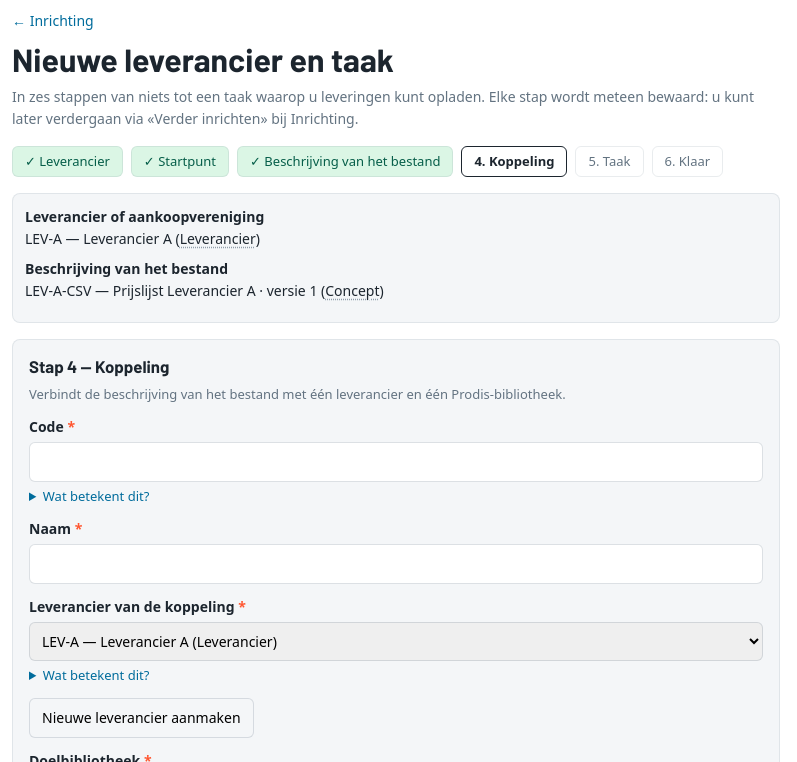
it: NewSupplierWizardPage (NT-6) › hervatten: bestaande definitie mét conceptversie opent bij de koppeling; ongeldige valuta wordt nooit aangepast
Expected: the heading "Stap 4 — Koppeling" is shown, [29, 356, 169, 376]
Expected: the element with test id "wizard-done-so-far" shows "LEV-A-CSV", [25, 281, 91, 300]
Type "LNK-A" into the field labelled "Code *" at (396, 462), box [29, 442, 763, 482]
Type "Koppeling A" into the field labelled "Naam *" at (396, 564), box [29, 544, 763, 584]
(page scrolled)
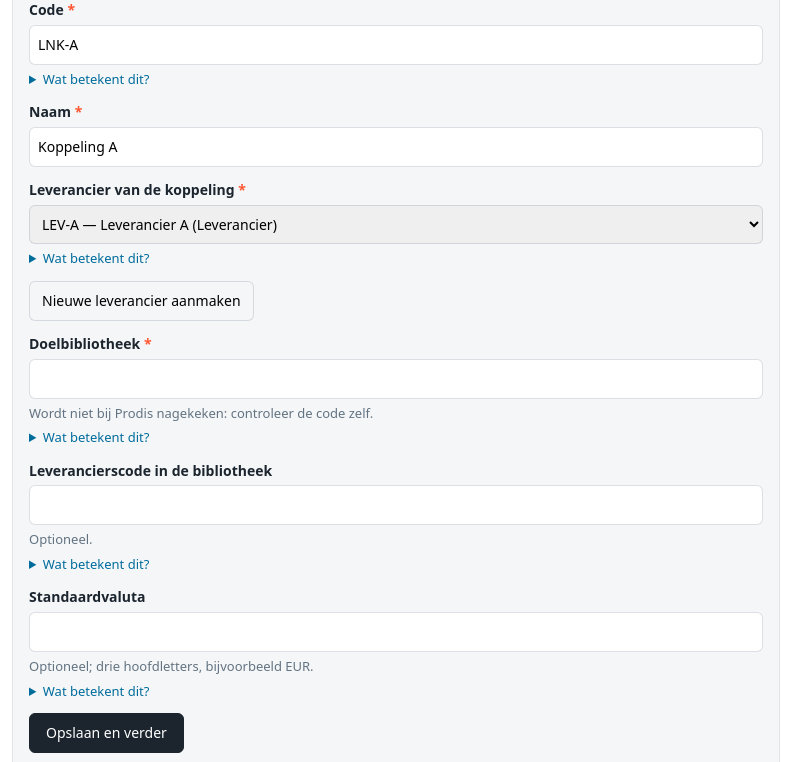
Type "LIB1" into the field labelled "Doelbibliotheek *" at (396, 379), box [29, 359, 763, 399]
Type "eur" into the field labelled "Standaardvaluta" at (396, 632), box [29, 612, 763, 652]
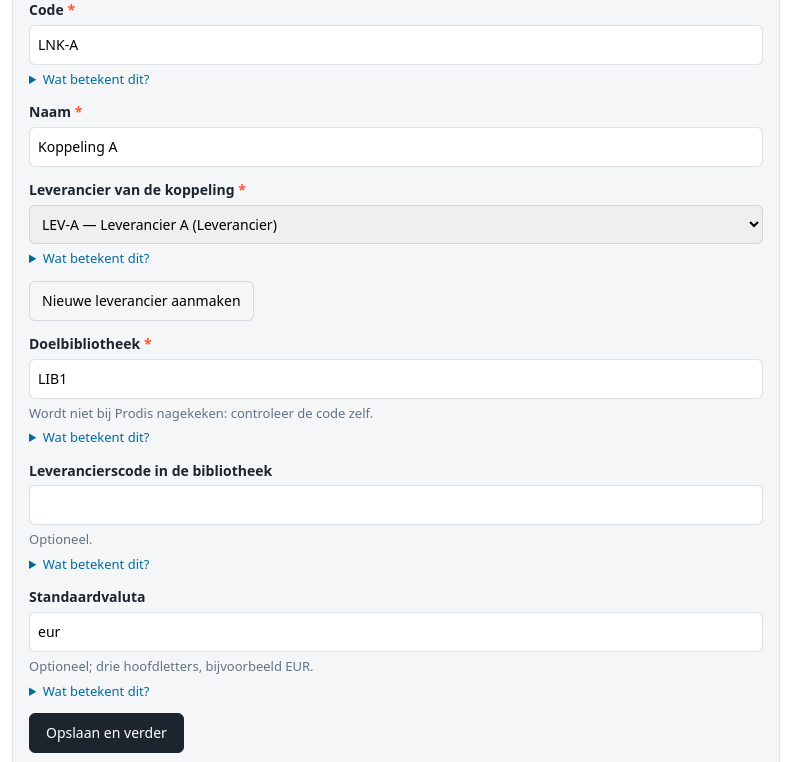
Click the button "Opslaan en verder" at (106, 733), box [29, 713, 184, 753]
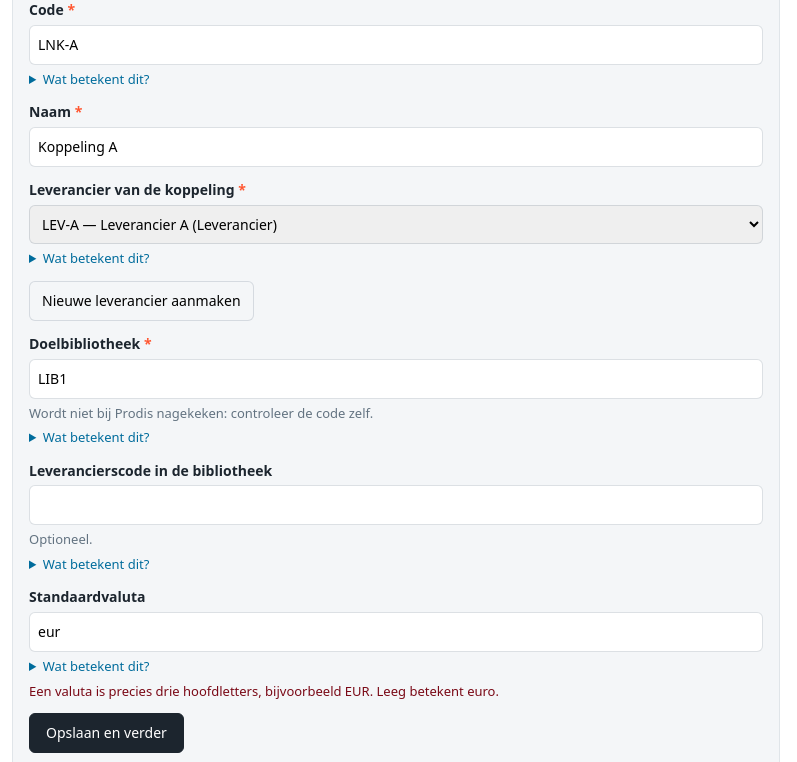
Expected: the text "Een valuta is precies drie hoofdletters, bijvoorbeeld EUR. Leeg betekent euro." is shown, [29, 682, 499, 700]
Replace the text in the field labelled "Standaardvaluta" with "EUR" at (396, 632), box [29, 612, 763, 652]
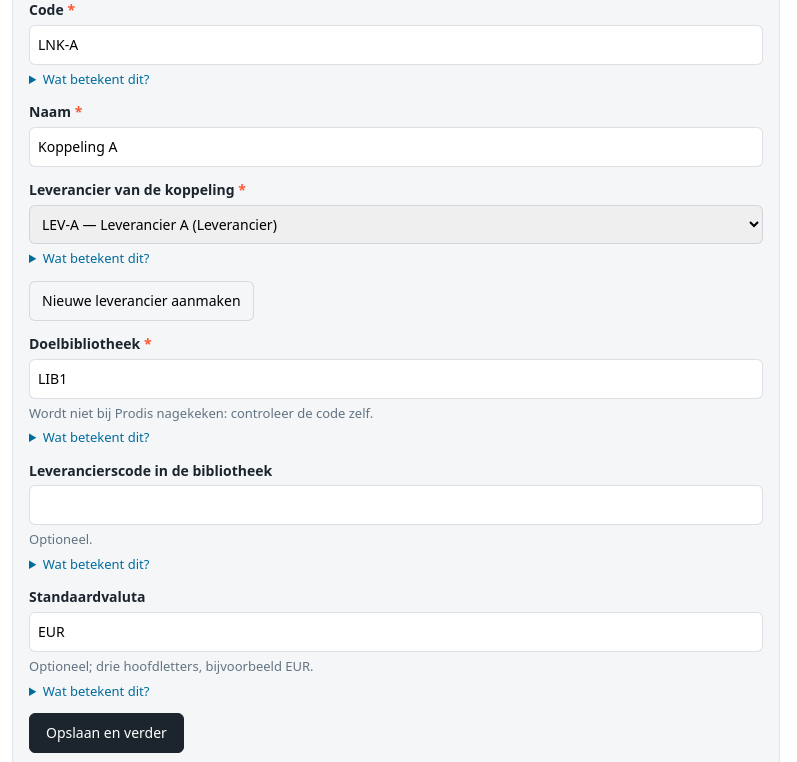
Click the button "Opslaan en verder" at (106, 733), box [29, 713, 184, 753]
(page scrolled)
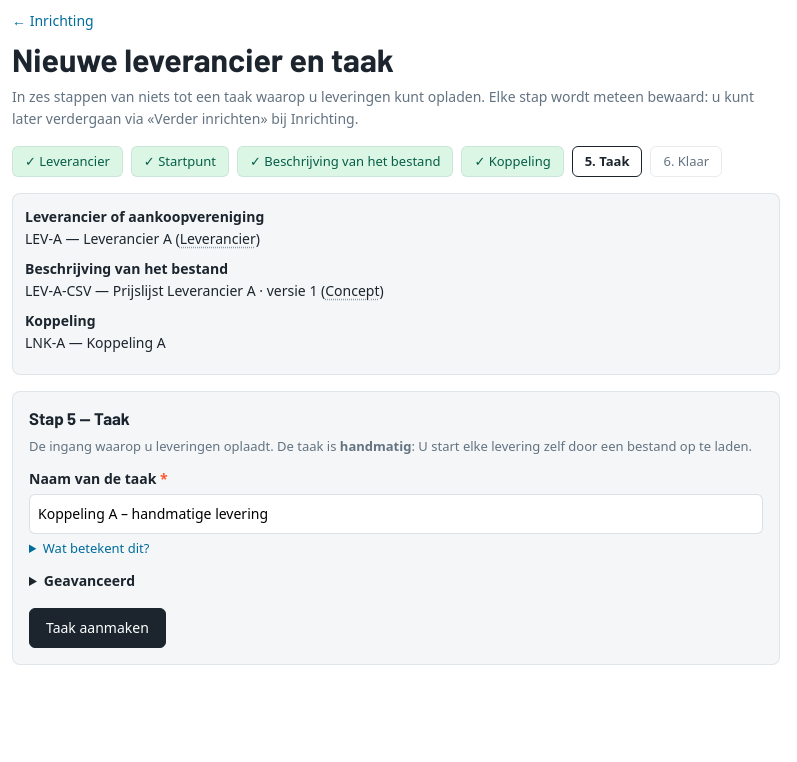
Expected: the heading "Stap 5 — Taak" is shown, [29, 408, 130, 428]
Click the button "Taak aanmaken" at (97, 628), box [29, 608, 166, 648]
(page scrolled)
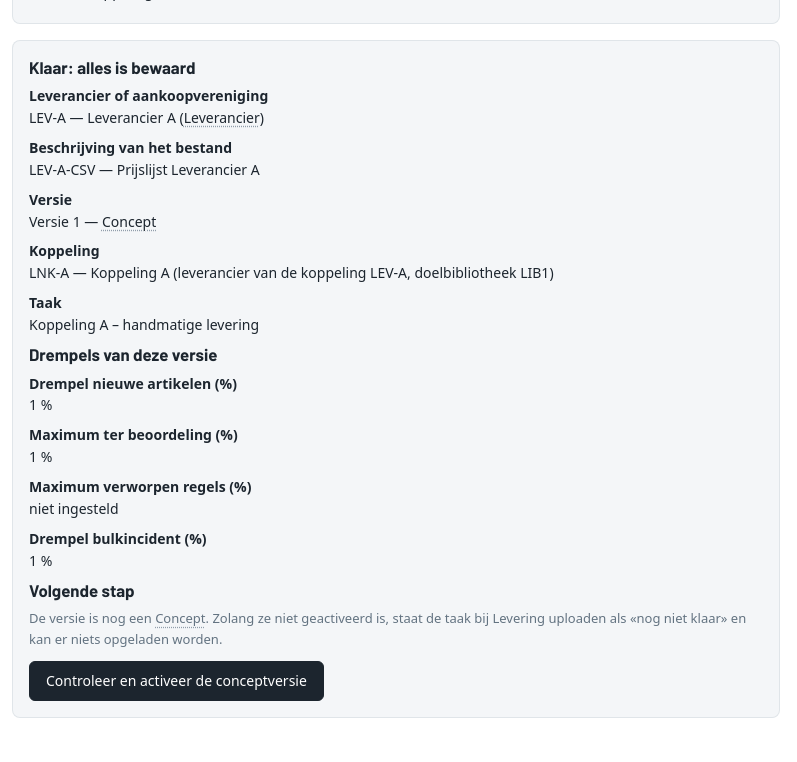
Expected: the element with test id "wizard-summary" is shown
